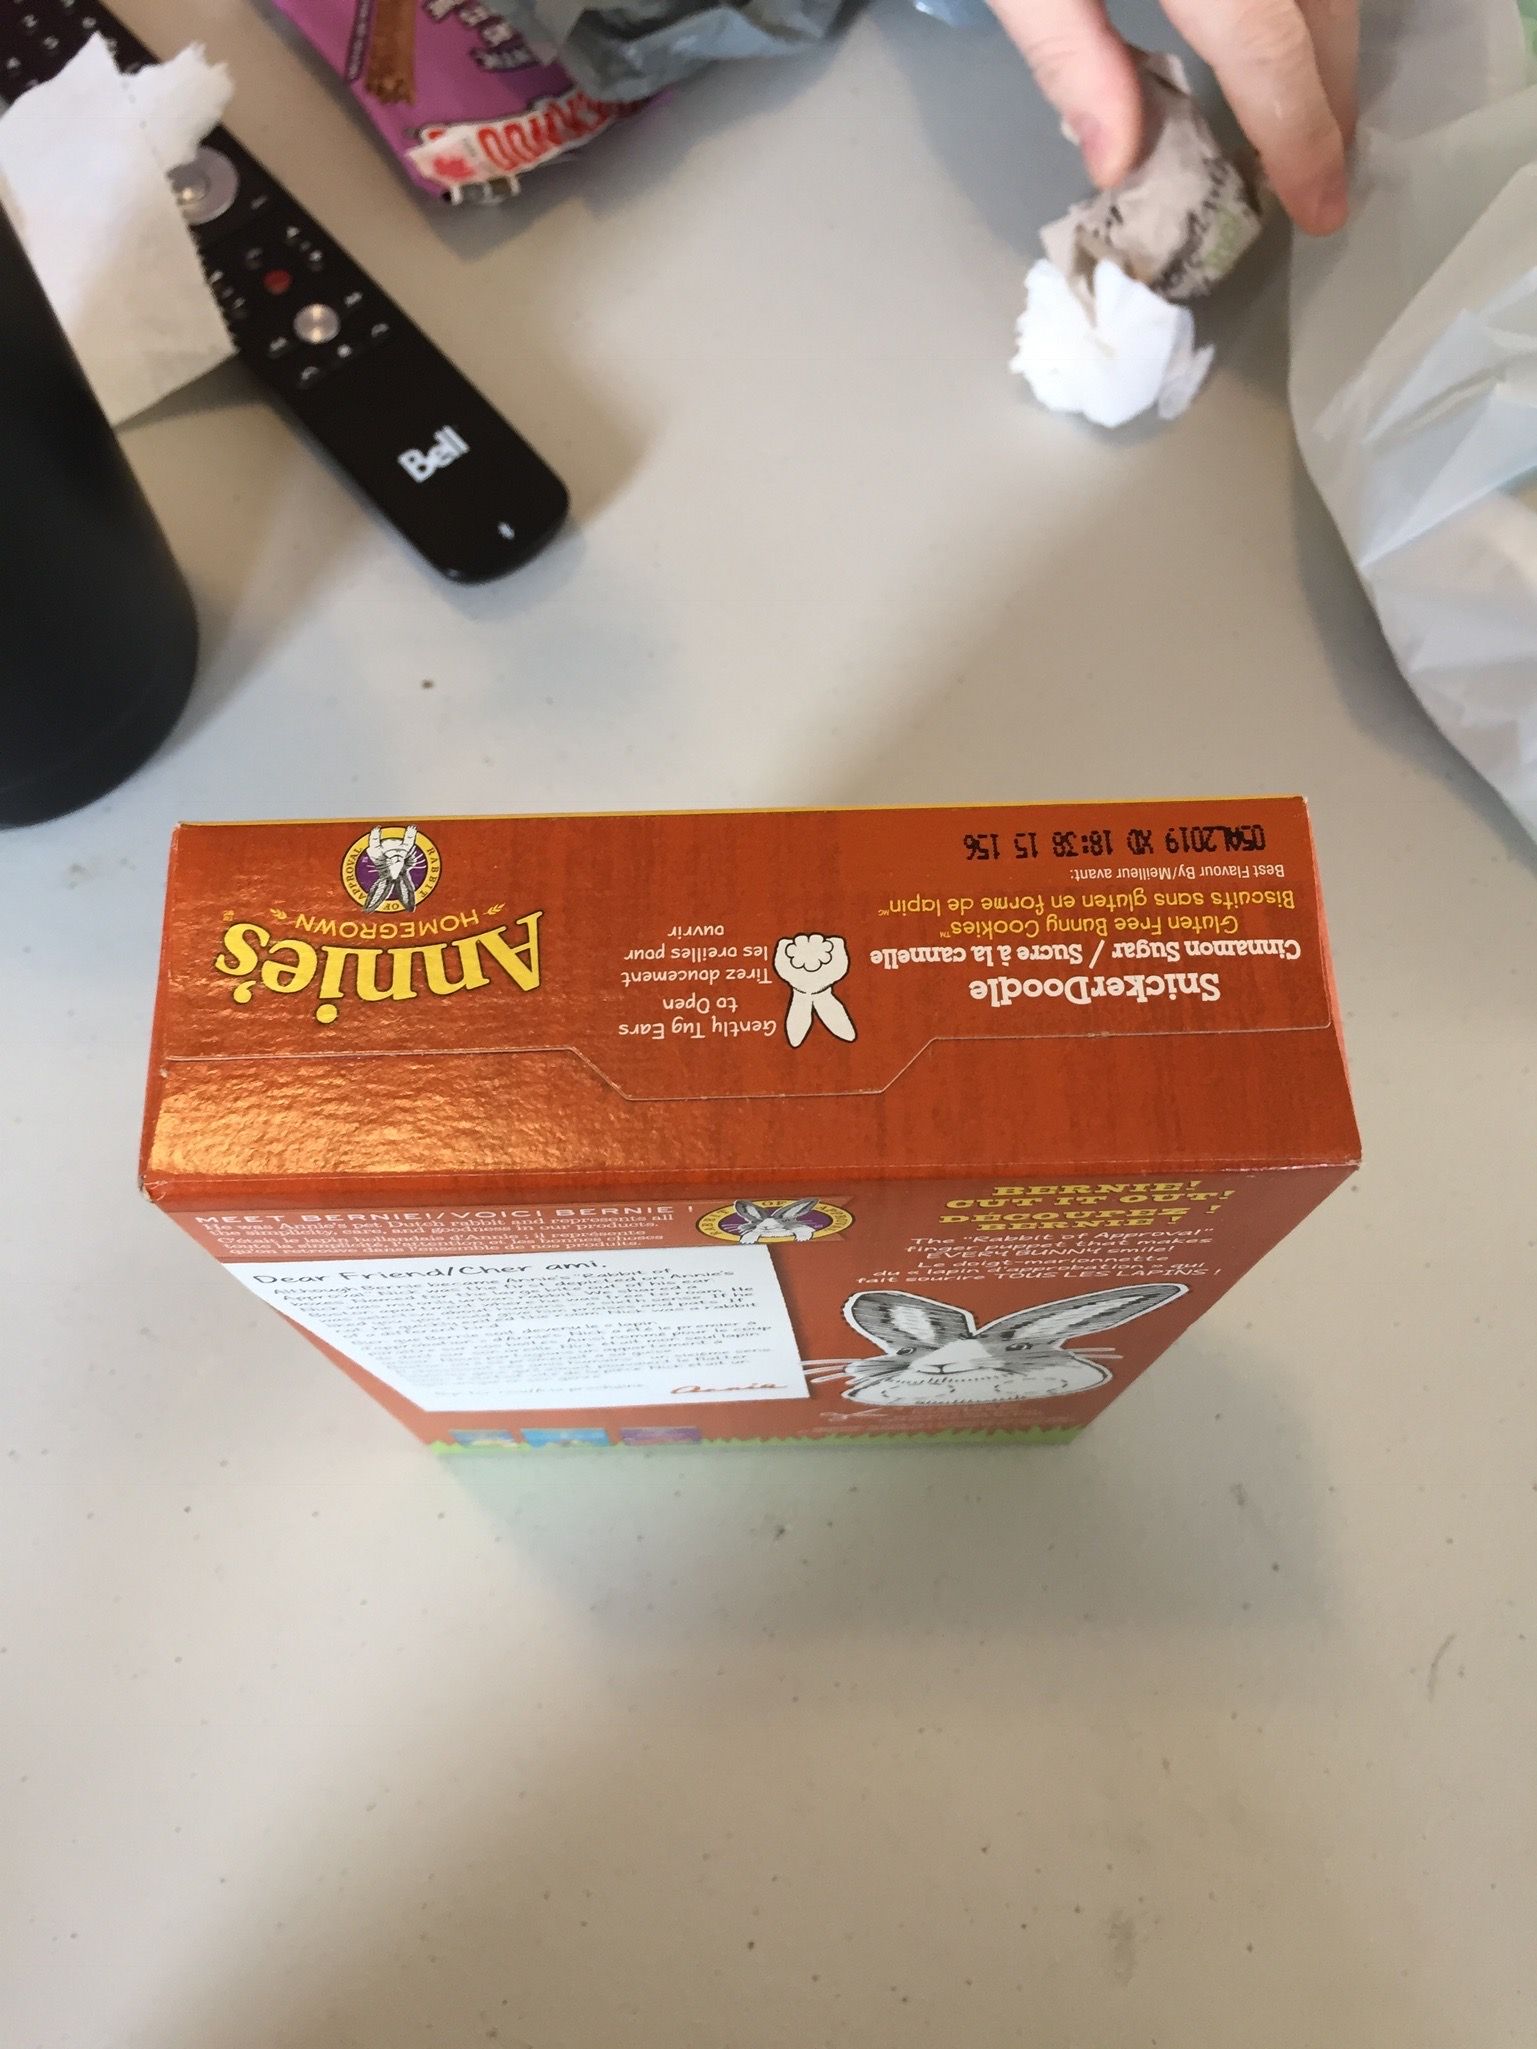annies_snickerdoodles_cinnamon_sugar: (176, 835, 1308, 1216)
